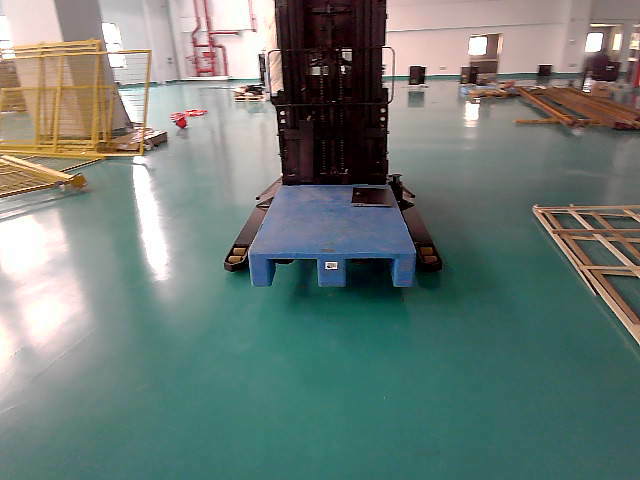block: (316, 253, 350, 289), (248, 253, 271, 286), (393, 253, 416, 286)
front: (247, 253, 417, 292)
hole pallet: (265, 260, 318, 287), (346, 258, 394, 286)
